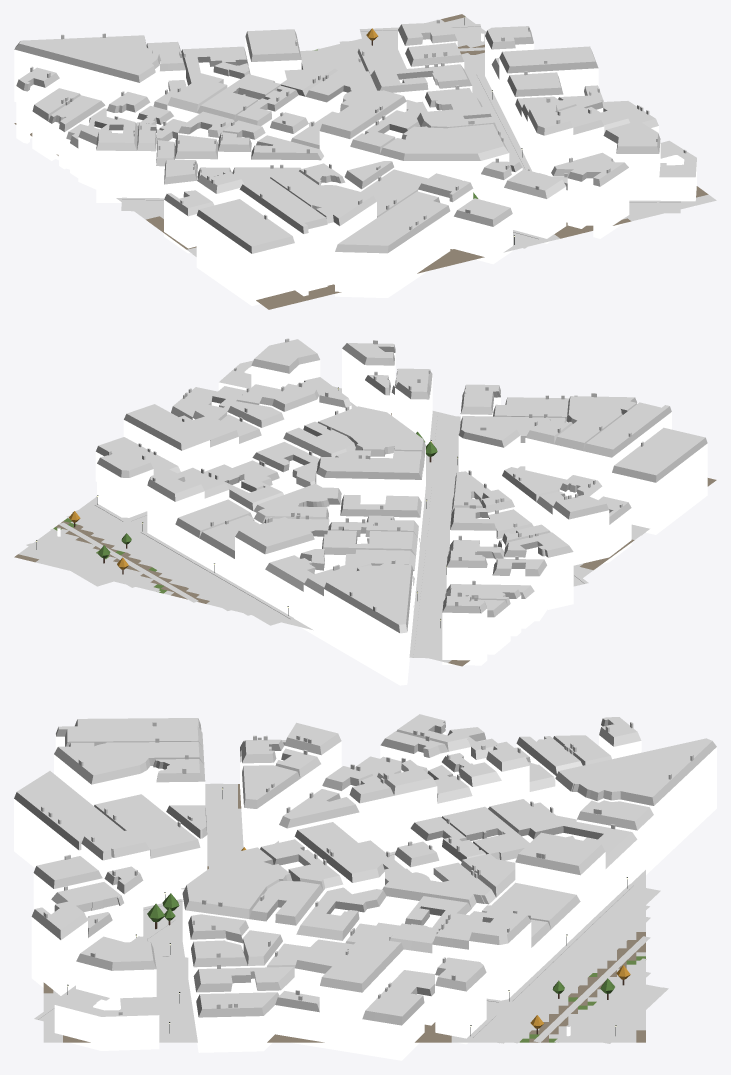
Rendered from zone_B2.glb.
3 renders of one model, top to bottom at view 1: azimuth 30°, elevation 25°; view 2: azimuth 150°, elevation 25°; view 3: azimuth 270°, elevation 25°, orthographic. The views are drawn at different scales.
Parts seen in each view (by area): view 1: zone_B2_batiments, zone_B2_sol_NOCOL, zone_B2_terrain; view 2: zone_B2_batiments, zone_B2_sol_NOCOL, zone_B2_terrain, zone_B2_decor_NOCOL; view 3: zone_B2_batiments, zone_B2_sol_NOCOL, zone_B2_terrain, zone_B2_decor_NOCOL.
Boxes of the visible parts, left/top/right/bottom form: zone_B2_batiments: left=14, top=19, right=696, bottom=305; zone_B2_sol_NOCOL: left=121, top=24, right=680, bottom=256; zone_B2_terrain: left=14, top=14, right=716, bottom=309; zone_B2_batiments: left=57, top=338, right=707, bottom=685; zone_B2_sol_NOCOL: left=26, top=406, right=646, bottom=658; zone_B2_terrain: left=14, top=386, right=716, bottom=666; zone_B2_decor_NOCOL: left=36, top=387, right=457, bottom=627; zone_B2_batiments: left=14, top=714, right=716, bottom=1060; zone_B2_sol_NOCOL: left=34, top=783, right=668, bottom=1043; zone_B2_terrain: left=43, top=784, right=645, bottom=1042; zone_B2_decor_NOCOL: left=67, top=787, right=630, bottom=1035.
Size of the model in its own units: 204 by 31.04 by 217.
